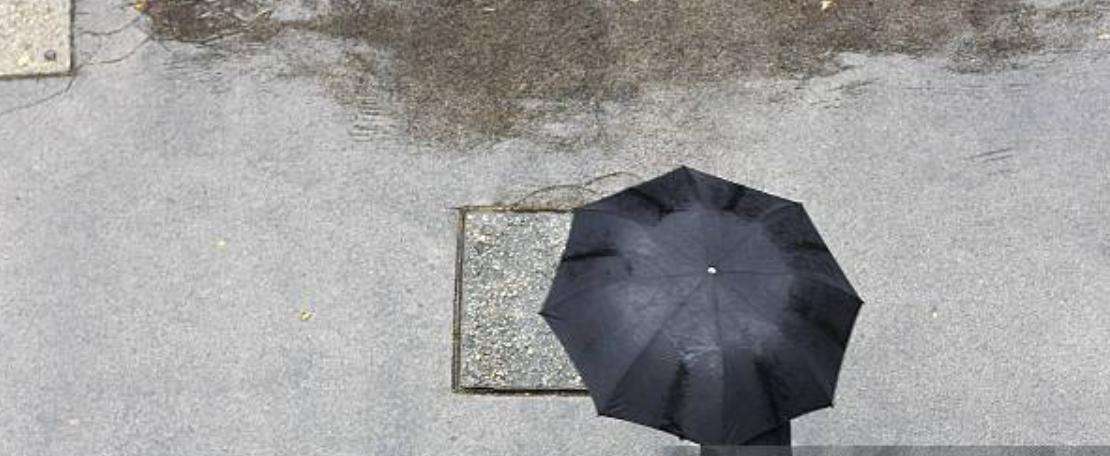Umbrella: (537, 168, 868, 438)
